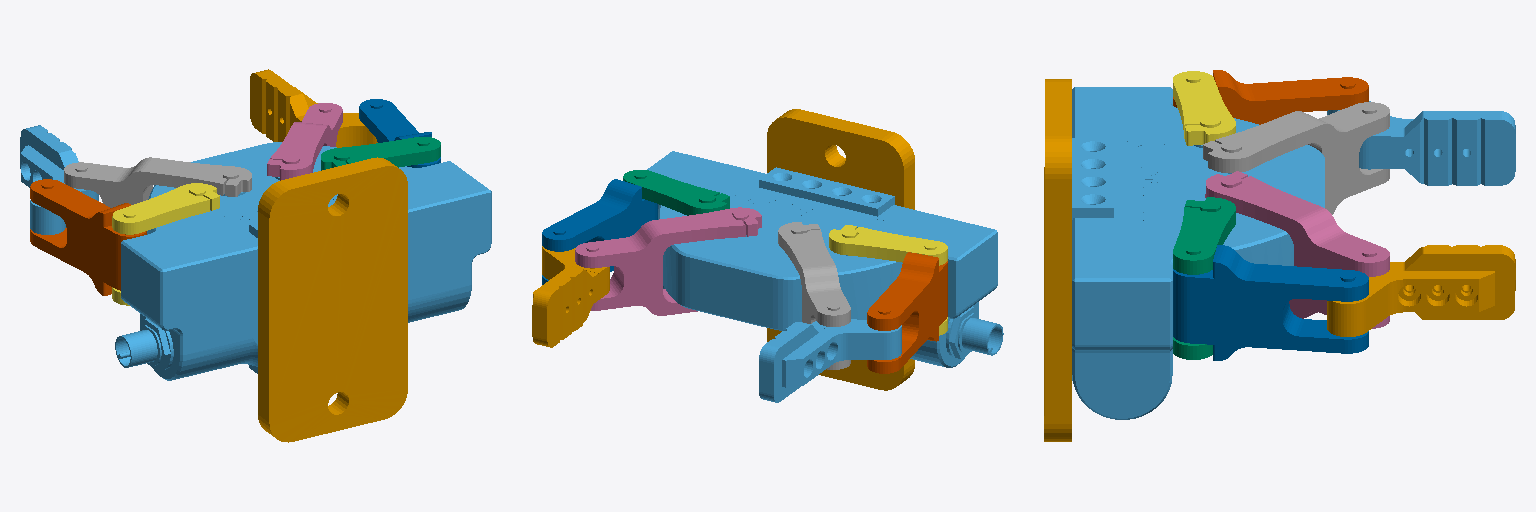
robot.urdf — sisbot:
<?xml version="1.0" ?>
<!-- =================================================================================== -->
<!-- |    This document was autogenerated by xacro from sisbot.xacro                   | -->
<!-- |    EDITING THIS FILE BY HAND IS NOT RECOMMENDED                                 | -->
<!-- =================================================================================== -->
<robot name="sisbot" xmlns:xacro="http://ros.org/wiki/xacro">
  <!--################################################
  ########              arm                    #######
  ####################################################-->

  <link name="base_link">
    <visual>
      <geometry>
        <mesh filename="./ur5/meshes/visual/base.obj"/>
      </geometry>
      <material name="LightGrey">
        <color rgba="0.7 0.7 0.7 1.0"/>
      </material>
    </visual>
    <collision>
      <geometry>
        <mesh filename="./ur5//meshes/collision/base.stl"/>
      </geometry>
    </collision>
    <inertial>
      <mass value="4.0"/>
      <origin rpy="0 0 0" xyz="0.0 0.0 0.0"/>
      <inertia ixx="0.00443333156" ixy="0.0" ixz="0.0" iyy="0.00443333156" iyz="0.0" izz="0.0072"/>
    </inertial>
  </link>

  <joint name="shoulder_pan_joint" type="revolute">
    <parent link="base_link"/>
    <child link="shoulder_link"/>
    <origin rpy="0.0 0.0 0.0" xyz="0.0 0.0 0.089159"/>
    <axis xyz="0 0 1"/>
    <limit effort="150.0" lower="-3.14159265359" upper="3.14159265359" velocity="3.15"/>
    <dynamics damping="0.0" friction="0.0"/>
  </joint>

  <link name="shoulder_link">
    <visual>
      <geometry>
        <mesh filename="./ur5/meshes/visual/shoulder.obj"/>
      </geometry>
      <material name="LightGrey">
        <color rgba="0.7 0.7 0.7 1.0"/>
      </material>
    </visual>
    <collision>
      <geometry>
        <mesh filename="./ur5/meshes/collision/shoulder.stl"/>
      </geometry>
    </collision>
    <inertial>
      <mass value="3.7"/>
      <origin rpy="0 0 0" xyz="0.0 0.0 0.0"/>
      <inertia ixx="0.010267495893" ixy="0.0" ixz="0.0" iyy="0.010267495893" iyz="0.0" izz="0.00666"/>
    </inertial>
  </link>

  <joint name="shoulder_lift_joint" type="revolute">
    <parent link="shoulder_link"/>
    <child link="upper_arm_link"/>
    <origin rpy="0.0 1.57079632679 0.0" xyz="0.0 0.13585 0.0"/>
    <axis xyz="0 1 0"/>
    <limit effort="150.0" lower="-3.14159265359" upper="3.14159265359" velocity="3.15"/>
    <dynamics damping="0.0" friction="0.0"/>
  </joint>

  <link name="upper_arm_link">
    <visual>
      <geometry>
        <mesh filename="./ur5/meshes/visual/upperarm.obj"/>
      </geometry>
      <material name="LightGrey">
        <color rgba="0.7 0.7 0.7 1.0"/>
      </material>
    </visual>
    <collision>
      <geometry>
        <mesh filename="./ur5/meshes/collision/upperarm.stl"/>
      </geometry>
    </collision>
    <inertial>
      <mass value="8.393"/>
      <origin rpy="0 0 0" xyz="0.0 0.0 0.28"/>
      <inertia ixx="0.22689067591" ixy="0.0" ixz="0.0" iyy="0.22689067591" iyz="0.0" izz="0.0151074"/>
    </inertial>
  </link>

  <joint name="elbow_joint" type="revolute">
    <parent link="upper_arm_link"/>
    <child link="forearm_link"/>
    <origin rpy="0.0 0.0 0.0" xyz="0.0 -0.1197 0.425"/>
    <axis xyz="0 1 0"/>
    <limit effort="150.0" lower="-3.14159265359" upper="3.14159265359" velocity="3.15"/>
    <dynamics damping="0.0" friction="0.0"/>
  </joint>

  <link name="forearm_link">
    <visual>
      <geometry>
        <mesh filename="./ur5//meshes/visual/forearm.obj"/>
      </geometry>
      <material name="LightGrey">
        <color rgba="0.7 0.7 0.7 1.0"/>
      </material>
    </visual>
    <collision>
      <geometry>
        <mesh filename="./ur5//meshes/collision/forearm.stl"/>
      </geometry>
    </collision>
    <inertial>
      <mass value="2.275"/>
      <origin rpy="0 0 0" xyz="0.0 0.0 0.25"/>
      <inertia ixx="0.049443313556" ixy="0.0" ixz="0.0" iyy="0.049443313556" iyz="0.0" izz="0.004095"/>
    </inertial>
  </link>

  <joint name="wrist_1_joint" type="revolute">
    <parent link="forearm_link"/>
    <child link="wrist_1_link"/>
    <origin rpy="0.0 1.57079632679 0.0" xyz="0.0 0.0 0.39225"/>
    <axis xyz="0 1 0"/>
    <limit effort="28.0" lower="-3.14159265359" upper="3.14159265359" velocity="3.2"/>
    <dynamics damping="0.0" friction="0.0"/>
  </joint>

  <link name="wrist_1_link">
    <visual>
      <geometry>
        <mesh filename="./ur5/meshes/visual/wrist1.obj"/>
      </geometry>
      <material name="LightGrey">
        <color rgba="0.7 0.7 0.7 1.0"/>
      </material>
    </visual>
    <collision>
      <geometry>
        <mesh filename="./ur5/meshes/collision/wrist1.stl"/>
      </geometry>
    </collision>
    <inertial>
      <mass value="1.219"/>
      <origin rpy="0 0 0" xyz="0.0 0.0 0.0"/>
      <inertia ixx="0.111172755531" ixy="0.0" ixz="0.0" iyy="0.111172755531" iyz="0.0" izz="0.21942"/>
    </inertial>
  </link>

  <joint name="wrist_2_joint" type="revolute">
    <parent link="wrist_1_link"/>
    <child link="wrist_2_link"/>
    <origin rpy="0.0 0.0 0.0" xyz="0.0 0.093 0.0"/>
    <axis xyz="0 0 1"/>
    <limit effort="28.0" lower="-3.14159265359" upper="3.14159265359" velocity="3.2"/>
    <dynamics damping="0.0" friction="0.0"/>
  </joint>

  <link name="wrist_2_link">
    <visual>
      <geometry>
        <mesh filename="./ur5/meshes/visual/wrist2.obj"/>
      </geometry>
      <material name="LightGrey">
        <color rgba="0.7 0.7 0.7 1.0"/>
      </material>
    </visual>
    <collision>
      <geometry>
        <mesh filename="./ur5/meshes/collision/wrist2.stl"/>
      </geometry>
    </collision>
    <inertial>
      <mass value="1.219"/>
      <origin rpy="0 0 0" xyz="0.0 0.0 0.0"/>
      <inertia ixx="0.111172755531" ixy="0.0" ixz="0.0" iyy="0.111172755531" iyz="0.0" izz="0.21942"/>
    </inertial>
  </link>

  <joint name="wrist_3_joint" type="revolute">
    <parent link="wrist_2_link"/>
    <child link="wrist_3_link"/>
    <origin rpy="0.0 0.0 0.0" xyz="0.0 0.0 0.09465"/>
    <axis xyz="0 1 0"/>
    <limit effort="28.0" lower="-3.14159265359" upper="3.14159265359" velocity="3.2"/>
    <dynamics damping="0.0" friction="0.0"/>
  </joint>

  <link name="wrist_3_link">
    <visual>
      <geometry>
        <mesh filename="./ur5/meshes/visual/wrist3.obj"/>
      </geometry>
      <material name="LightGrey">
        <color rgba="0.7 0.7 0.7 1.0"/>
      </material>
    </visual>
    <collision>
      <geometry>
        <mesh filename="./ur5/meshes/collision/wrist3.stl"/>
      </geometry>
    </collision>
    <inertial>
      <mass value="0.1879"/>
      <origin rpy="0 0 0" xyz="0.0 0.0 0.0"/>
      <inertia ixx="0.0171364731454" ixy="0.0" ixz="0.0" iyy="0.0171364731454" iyz="0.0" izz="0.033822"/>
    </inertial>
  </link>

  <joint name="ee_fixed_joint" type="fixed">
    <parent link="wrist_3_link"/>
    <child link="ee_link"/>
    <origin rpy="0.0 0.0 1.57079632679" xyz="0.0 0.0823 0.0"/>
  </joint>

  <link name="ee_link">
    <collision>
      <geometry>
        <box size="0.01 0.01 0.01"/>
      </geometry>
      <origin rpy="0 0 0" xyz="-0.01 0 0"/>
    </collision>
  </link>

  <!--################################################
  ########              gripper                  #####
  ####################################################-->

  <link name="robotiq_85_adapter_link">
    <visual>
      <geometry>
        <mesh filename="./robotiq_c2/meshes/visual/robotiq_85_gripper_adapter_plate.obj"/>
      </geometry>
      <origin rpy="1.5707 0 1.5707" xyz="0 0 0"/>
    </visual>
    <collision>
      <geometry>
        <mesh filename="./robotiq_c2/meshes/collision/robotiq_85_gripper_adapter_plate.stl"/>
      </geometry>
      <origin rpy="0 0 1.5707" xyz="0 0 0"/>
    </collision>
  </link>

  <joint name="robotiq_85_base_joint" type="fixed">
    <parent link="robotiq_85_adapter_link"/>
    <child link="robotiq_85_base_link"/>
    <axis xyz="1 0 0"/>
    <origin rpy="0 0 0" xyz=".0085 0 -.0041"/>
  </joint>

  <link name="robotiq_85_base_link">
    <visual>
      <geometry>
        <mesh filename="./robotiq_c2/meshes/visual/robotiq_85_gripper_base.obj"/>
      </geometry>
      <origin rpy="3.1415 0 1.5707" xyz="0 0 0"/>
    </visual>
    <collision>
      <geometry>
        <mesh filename="./robotiq_c2/meshes/collision/robotiq_85_gripper_base.stl"/>
      </geometry>
      <origin rpy="1.5707 0 1.5707" xyz="0 0 0"/>
    </collision>
  </link>

  <joint name="robotiq_85_left_knuckle_joint" type="revolute">
    <parent link="robotiq_85_base_link"/>
    <child link="robotiq_85_left_knuckle_link"/>
    <axis xyz="1 0 0"/>
    <origin rpy="-1.5707 1.5707 0" xyz="0.04191 0.0306 0"/>
    <limit effort="1000" lower="0" upper="0.343" velocity="2.0"/> <!-- upperLimit modified by johnson -->
  </joint>

  <joint name="robotiq_85_right_knuckle_joint" type="revolute">
    <parent link="robotiq_85_base_link"/>
    <child link="robotiq_85_right_knuckle_link"/>
    <axis xyz="1 0 0"/>
    <origin rpy="1.5707 -1.5707 0" xyz=".04191 -.0306 0"/>
    <limit effort="1000" lower="0" upper="1.5707" velocity="2.0"/>
    <mimic joint="robotiq_85_left_knuckle_joint" multiplier="1"/>
  </joint>

  <link name="robotiq_85_left_knuckle_link">
    <visual>
      <geometry>
        <mesh filename="./robotiq_c2/meshes/visual/robotiq_85_gripper_joint_0_L.obj"/>
      </geometry>
      <origin rpy="3.14159 -1.5707 0" xyz="0 .04191 -.0306"/>
    </visual>
    <collision>
      <geometry>
        <mesh filename="./robotiq_c2/meshes/collision/robotiq_85_gripper_joint_0_L.stl"/>
      </geometry>
      <origin rpy="1.5707 -1.5707 0" xyz="0 .04191 -.0306"/>
    </collision>
  </link>

  <link name="robotiq_85_right_knuckle_link">
    <visual>
      <geometry>
        <mesh filename="./robotiq_c2/meshes/visual/robotiq_85_gripper_joint_0_R.obj"/>
      </geometry>
      <origin rpy="3.14159 1.5707 0" xyz="0 .04191 -.0306"/>
    </visual>
    <collision>
      <geometry>
        <mesh filename="./robotiq_c2/meshes/collision/robotiq_85_gripper_joint_0_R.stl"/>
      </geometry>
      <origin rpy="1.5707 1.5707 0" xyz="0 .04191 -.0306"/>
    </collision>
  </link>

  <joint name="robotiq_85_left_finger_joint" type="fixed">
    <parent link="robotiq_85_left_knuckle_link"/>
    <child link="robotiq_85_left_finger_link"/>
    <axis xyz="1 0 0"/>
    <origin rpy="3.1415 0 0" xyz="0 .00508 .03134"/>
    <limit effort="1000" lower="0" upper="1.5707" velocity="2.0"/>
  </joint>

  <joint name="robotiq_85_right_finger_joint" type="fixed">
    <parent link="robotiq_85_right_knuckle_link"/>
    <child link="robotiq_85_right_finger_link"/>
    <axis xyz="1 0 0"/>
    <origin rpy="3.1415 0 0" xyz="0 .00508 .03134"/>
    <limit effort="1000" lower="0" upper="1.5707" velocity="2.0"/>
  </joint>

  <link name="robotiq_85_left_finger_link">
    <visual>
      <geometry>
        <mesh filename="./robotiq_c2/meshes/visual/robotiq_85_gripper_joint_1_L.obj"/>
      </geometry>
      <origin rpy="0 1.5707 0" xyz="0 -.03683 .06194"/>
    </visual>
    <collision>
      <geometry>
        <mesh filename="./robotiq_c2/meshes/collision/robotiq_85_gripper_joint_1_L.stl"/>
      </geometry>
      <origin rpy="-1.5707 1.5707 0" xyz="0 -.03683 .06194"/>
    </collision>
  </link>

  <link name="robotiq_85_right_finger_link">
    <visual>
      <geometry>
        <mesh filename="./robotiq_c2/meshes/visual/robotiq_85_gripper_joint_1_R.obj"/>
      </geometry>
      <origin rpy="0 -1.5707 0" xyz="0 -.03683 .06194"/>
    </visual>
    <collision>
      <geometry>
        <mesh filename="./robotiq_c2/meshes/collision/robotiq_85_gripper_joint_1_R.stl"/>
      </geometry>
      <origin rpy="-1.5707 -1.5707 0" xyz="0 -.03683 .06194"/>
    </collision>
  </link>

  <joint name="robotiq_85_left_inner_knuckle_joint" type="revolute">
    <parent link="robotiq_85_base_link"/>
    <child link="robotiq_85_left_inner_knuckle_link"/>
    <axis xyz="1 0 0"/>
    <origin rpy="1.5707 1.5707 0" xyz=".04843 .0127 0"/>
    <limit effort="1000" lower="0" upper="1.5707" velocity="2.0"/>
    <mimic joint="robotiq_85_left_knuckle_joint" offset="0"/>
  </joint>

  <joint name="robotiq_85_right_inner_knuckle_joint" type="revolute">
    <parent link="robotiq_85_base_link"/>
    <child link="robotiq_85_right_inner_knuckle_link"/>
    <axis xyz="1 0 0"/>
    <origin rpy="-1.5707 -1.5707 0" xyz=".04843 -.0127 0"/>
    <limit effort="1000" lower="0" upper="1.5707" velocity="2.0"/>
    <mimic joint="robotiq_85_left_knuckle_joint" offset="0"/>
  </joint>

  <link name="robotiq_85_left_inner_knuckle_link">
    <visual>
      <geometry>
        <mesh filename="./robotiq_c2/meshes/visual/robotiq_85_gripper_joint_2_L.obj"/>
      </geometry>
      <origin rpy="0 1.5707 0" xyz="0 -.04843 .0127"/>
    </visual>
    <collision>
      <geometry>
        <mesh filename="./robotiq_c2/meshes/collision/robotiq_85_gripper_joint_2_L.stl"/>
      </geometry>
      <origin rpy="-1.5707 1.5707 0" xyz="0 -.04843 .0127"/>
    </collision>
  </link>

  <link name="robotiq_85_right_inner_knuckle_link">
    <visual>
      <geometry>
        <mesh filename="./robotiq_c2/meshes/visual/robotiq_85_gripper_joint_2_R.obj"/>
      </geometry>
      <origin rpy="0 -1.5707 0" xyz="0 -.04843 .0127"/>
    </visual>
    <collision>
      <geometry>
        <mesh filename="./robotiq_c2/meshes/collision/robotiq_85_gripper_joint_2_R.stl"/>
      </geometry>
      <origin rpy="-1.5707 -1.5707 0" xyz="0 -.04843 .0127"/>
    </collision>
  </link>

  <joint name="robotiq_85_left_finger_tip_joint" type="revolute">
    <parent link="robotiq_85_left_inner_knuckle_link"/>
    <child link="robotiq_85_left_finger_tip_link"/>
    <axis xyz="1 0 0"/>
    <origin rpy="0 0 0" xyz="0 .04196 -.0388"/>
    <limit effort="1000" lower="0" upper="1.5707" velocity="2.0"/>
    <mimic joint="robotiq_85_left_knuckle_joint" multiplier="-1"/>
  </joint>

  <joint name="robotiq_85_right_finger_tip_joint" type="revolute">
    <parent link="robotiq_85_right_inner_knuckle_link"/>
    <child link="robotiq_85_right_finger_tip_link"/>
    <axis xyz="1 0 0"/>
    <origin rpy="0 0 0" xyz="0 .04196 -.0388"/>
    <limit effort="1000" lower="0" upper="1.5707" velocity="2.0"/>
    <mimic joint="robotiq_85_left_knuckle_joint" multiplier="-1"/>
  </joint>

  <link name="robotiq_85_left_finger_tip_link">
    <visual>
      <geometry>
        <mesh filename="./robotiq_c2/meshes/visual/robotiq_85_gripper_joint_3_L.obj"/>
      </geometry>
      <origin rpy="0 1.5707 0" xyz="0 -.090381 .051505"/>
    </visual>
    <collision>
      <geometry>
        <mesh filename="./robotiq_c2/meshes/collision/robotiq_85_gripper_joint_3_L.stl"/>
      </geometry>
      <origin rpy="-1.5707 1.5707 0" xyz="0 -.090381 .051505"/>
    </collision>
  </link>

  <link name="robotiq_85_right_finger_tip_link">
    <visual>
      <geometry>
        <mesh filename="./robotiq_c2/meshes/visual/robotiq_85_gripper_joint_3_R.obj"/>
      </geometry>
      <origin rpy="0 -1.5707 0" xyz="0 -.090381 .051505"/>
    </visual>
    <collision>
      <geometry>
        <mesh filename="./robotiq_c2/meshes/collision/robotiq_85_gripper_joint_3_R.stl"/>
      </geometry>
      <origin rpy="-1.5707 -1.5707 0" xyz="0 -.090381 .051505"/>
    </collision>
  </link>

  <!--################################################
  ########          connect model                #####
  ####################################################-->

  <!-- connect arm to world -->
  <link name="world"/>
  <joint name="world_joint" type="fixed">
    <parent link="world"/>
    <child link="base_link"/>
    <origin rpy="0.0 0.0 0" xyz="0.0 0.0 0.1"/>
  </joint>

  <!-- connect gripper to arm -->
  <joint name="arm_gripper_joint" type="fixed">
    <parent link="wrist_3_link"/>
    <child link="robotiq_85_adapter_link"/>
    <origin rpy="0.0 0.0 1.5708" xyz="0.0 0.089 0.0"/>
  </joint>

</robot>

--- Render facts (derived) ---
3 views of the same robot in one strip: view 1: azimuth 30°, elevation 25°; view 2: azimuth 150°, elevation 25°; view 3: azimuth 270°, elevation 25° (orthographic).
Robot: sisbot — 19 links, 18 joints (12 revolute, 6 fixed); root link world; default pose: all joints at 0.
Visible links, largest first — view 1: robotiq_85_adapter_link, robotiq_85_base_link, robotiq_85_right_finger_link, robotiq_85_right_inner_knuckle_link, robotiq_85_left_finger_tip_link, robotiq_85_right_finger_tip_link, robotiq_85_left_inner_knuckle_link, robotiq_85_right_knuckle_link, robotiq_85_left_knuckle_link, robotiq_85_left_finger_link; view 2: robotiq_85_base_link, robotiq_85_adapter_link, robotiq_85_left_inner_knuckle_link, robotiq_85_right_finger_tip_link, robotiq_85_right_finger_link, robotiq_85_left_finger_tip_link, robotiq_85_right_inner_knuckle_link, robotiq_85_left_finger_link, robotiq_85_right_knuckle_link, robotiq_85_left_knuckle_link; view 3: robotiq_85_base_link, robotiq_85_left_finger_link, robotiq_85_left_finger_tip_link, robotiq_85_adapter_link, robotiq_85_right_finger_tip_link, robotiq_85_right_inner_knuckle_link, robotiq_85_left_inner_knuckle_link, robotiq_85_right_finger_link, robotiq_85_left_knuckle_link, robotiq_85_right_knuckle_link.
Link boxes in pixels (<box>): robotiq_85_adapter_link: <box>258,157,407,442</box>; robotiq_85_base_link: <box>115,142,491,380</box>; robotiq_85_right_finger_link: <box>30,179,146,295</box>; robotiq_85_right_inner_knuckle_link: <box>64,157,251,227</box>; robotiq_85_left_finger_tip_link: <box>250,69,377,147</box>; robotiq_85_right_finger_tip_link: <box>20,125,98,234</box>; robotiq_85_left_inner_knuckle_link: <box>267,103,342,180</box>; robotiq_85_right_knuckle_link: <box>112,183,219,305</box>; robotiq_85_left_knuckle_link: <box>321,137,440,170</box>; robotiq_85_left_finger_link: <box>359,99,440,167</box>; robotiq_85_base_link: <box>647,151,1003,367</box>; robotiq_85_adapter_link: <box>767,109,914,390</box>; robotiq_85_left_inner_knuckle_link: <box>575,207,761,315</box>; robotiq_85_right_finger_tip_link: <box>759,319,901,402</box>; robotiq_85_right_finger_link: <box>867,252,947,373</box>; robotiq_85_left_finger_tip_link: <box>532,246,609,347</box>; robotiq_85_right_inner_knuckle_link: <box>778,222,850,369</box>; robotiq_85_left_finger_link: <box>542,179,657,284</box>; robotiq_85_right_knuckle_link: <box>829,225,947,335</box>; robotiq_85_left_knuckle_link: <box>623,170,729,215</box>; robotiq_85_base_link: <box>1072,87,1324,419</box>; robotiq_85_left_finger_link: <box>1173,245,1368,360</box>; robotiq_85_left_finger_tip_link: <box>1327,245,1515,336</box>; robotiq_85_adapter_link: <box>1044,79,1071,441</box>; robotiq_85_right_finger_tip_link: <box>1327,101,1515,185</box>; robotiq_85_right_inner_knuckle_link: <box>1203,102,1389,214</box>; robotiq_85_left_inner_knuckle_link: <box>1205,171,1389,328</box>; robotiq_85_right_finger_link: <box>1173,70,1368,124</box>; robotiq_85_left_knuckle_link: <box>1173,197,1235,359</box>; robotiq_85_right_knuckle_link: <box>1173,71,1235,145</box>.
Bounding box of the posed robot: 0.1529 × 0.1434 × 0.102 m (x, y, z).
10 mesh visuals loaded from 17 distinct referenced files (10 OBJ); not drawn: 7 (reference not matched to a file when rendering).
